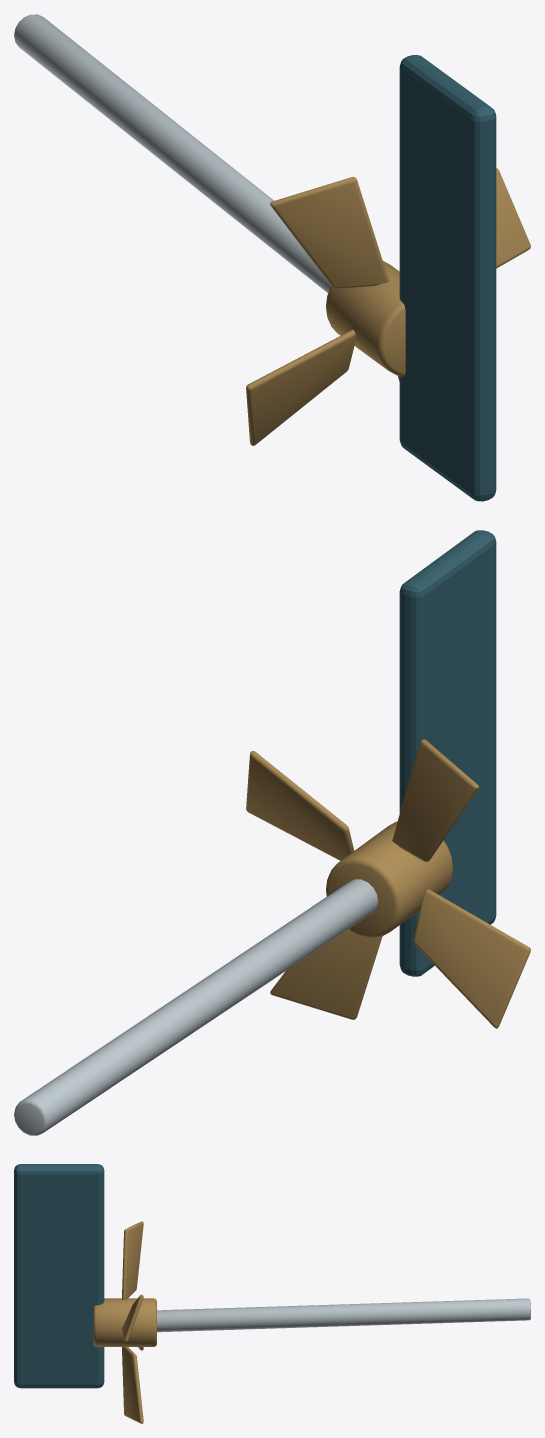
Rendered from coastal_propulsion.glb.
The picture shows the model from 3 angles, top to bottom: view 1: azimuth 30°, elevation 25°; view 2: azimuth 150°, elevation 25°; view 3: azimuth 270°, elevation 25°; orthographic projection. The views are drawn at different scales.
Visible parts, largest first — view 1: Rudder blade, Propeller shaft, Swept bronze propeller blade.001, Swept bronze propeller blade.002, Bronze propeller hub, Swept bronze propeller blade; view 2: Rudder blade, Propeller shaft, Swept bronze propeller blade.002, Bronze propeller hub, Swept bronze propeller blade.001, Swept bronze propeller blade.003, Swept bronze propeller blade; view 3: Rudder blade, Propeller shaft, Bronze propeller hub, Swept bronze propeller blade.001, Swept bronze propeller blade.003, Swept bronze propeller blade.
Boxes of the visible parts, x1,y1,x2,y2 form: Rudder blade: (399,55,496,501); Propeller shaft: (14,14,330,292); Swept bronze propeller blade.001: (270,177,388,288); Swept bronze propeller blade.002: (246,329,355,445); Bronze propeller hub: (326,261,405,376); Swept bronze propeller blade: (496,168,530,268); Rudder blade: (399,530,496,976); Propeller shaft: (14,879,378,1135); Swept bronze propeller blade.002: (413,889,530,1028); Bronze propeller hub: (326,821,453,937); Swept bronze propeller blade.001: (392,739,479,861); Swept bronze propeller blade.003: (270,930,382,1019); Swept bronze propeller blade: (246,751,354,860); Rudder blade: (14,1164,104,1388); Propeller shaft: (157,1298,530,1332); Bronze propeller hub: (93,1298,156,1346); Swept bronze propeller blade.001: (122,1221,143,1299); Swept bronze propeller blade.003: (122,1347,143,1423); Swept bronze propeller blade: (122,1294,143,1341).
Bounding box in the file's own units: 0.7553 × 1.09 × 2.12.
